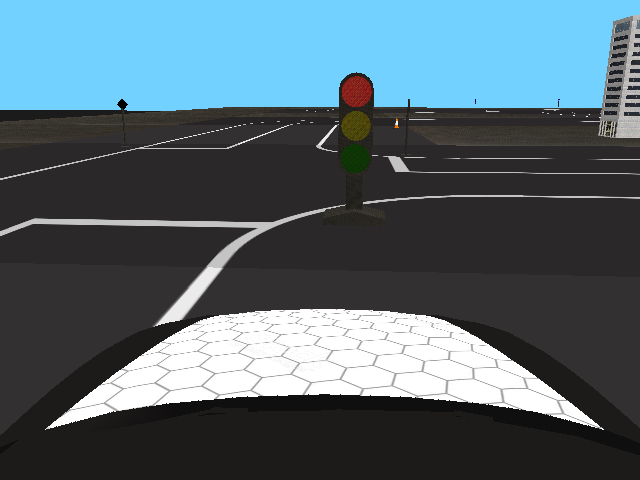red_light: (338, 72, 375, 177)
